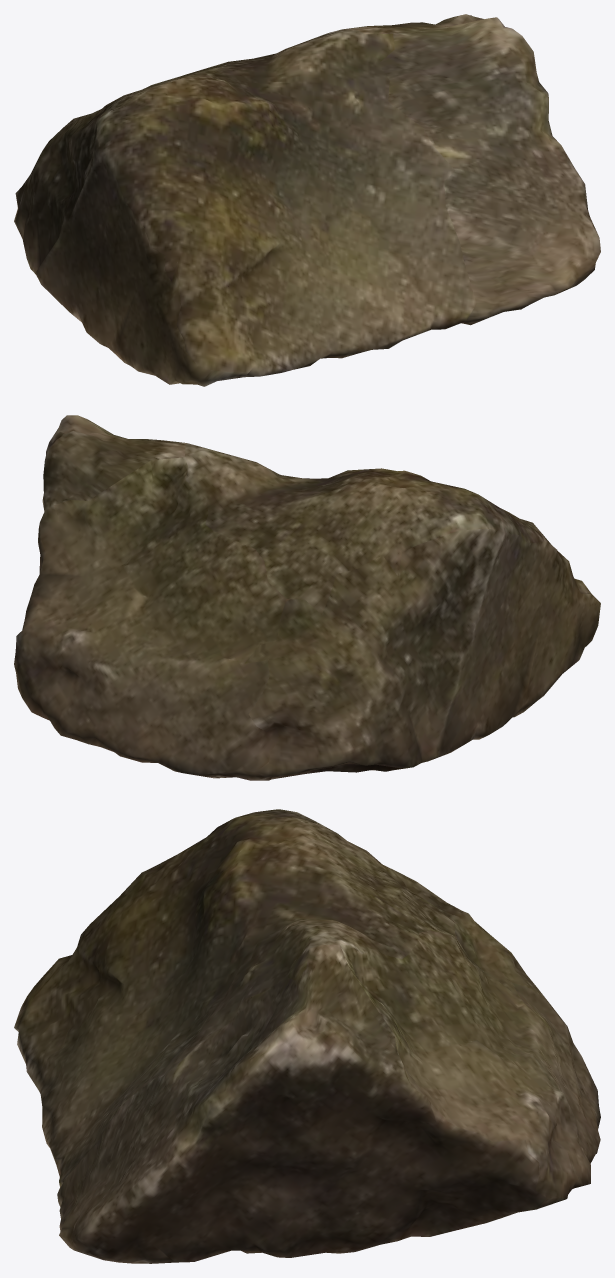
The model's file is rock_moss_set_01-rock03.glb.
3 views of the same model, one above another, from view 1: azimuth 30°, elevation 25°; view 2: azimuth 150°, elevation 25°; view 3: azimuth 270°, elevation 25° (orthographic). The views are drawn at different scales.
Visible parts, largest first — view 1: rock_moss_set_01_rock03; view 2: rock_moss_set_01_rock03; view 3: rock_moss_set_01_rock03.
Part boxes in pixels (x1,y1,x2,y2): rock_moss_set_01_rock03: (14,14,600,386); rock_moss_set_01_rock03: (14,415,600,780); rock_moss_set_01_rock03: (14,809,600,1263).
Bounding box in the file's own units: 2.11 × 1.1 × 2.08.
1 material, 1 textured.
